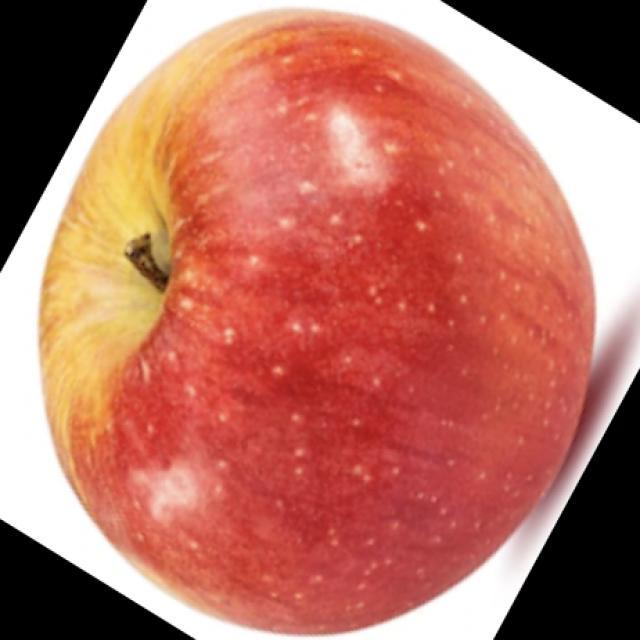Fresh Apple: (30, 14, 625, 628)
